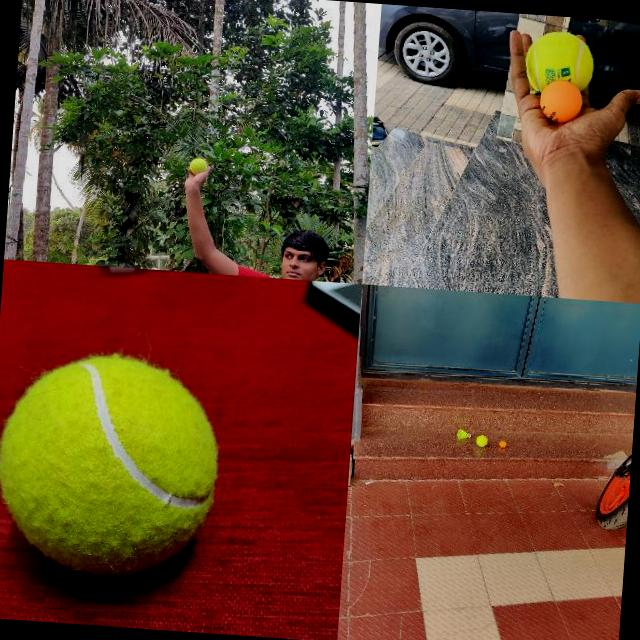Tennis Ball: (0, 345, 226, 583), (524, 29, 596, 82), (189, 156, 207, 174), (476, 434, 488, 447)
